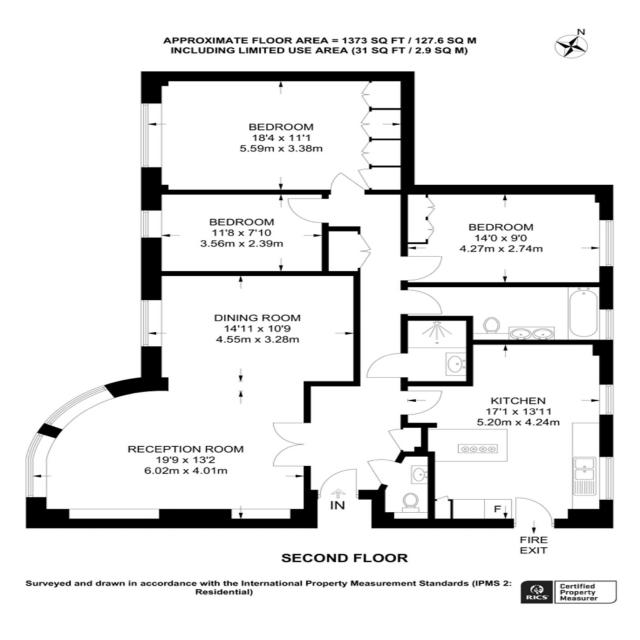DOOR: (512, 496, 557, 528), (316, 468, 360, 500), (286, 197, 329, 224), (400, 255, 444, 281), (400, 390, 443, 416), (365, 352, 408, 378), (400, 289, 443, 315), (365, 458, 402, 486), (329, 171, 367, 195)
DOUBLE DOOR: (271, 420, 313, 467)
ROOM: (24, 271, 361, 529), (400, 340, 614, 528), (141, 71, 415, 195), (400, 184, 614, 287), (140, 189, 330, 277)
WINDOW: (42, 384, 116, 431), (25, 431, 58, 499), (139, 102, 163, 169), (140, 299, 163, 347), (598, 219, 615, 267), (598, 456, 615, 501), (140, 210, 163, 239), (598, 309, 615, 341), (598, 384, 614, 416)
